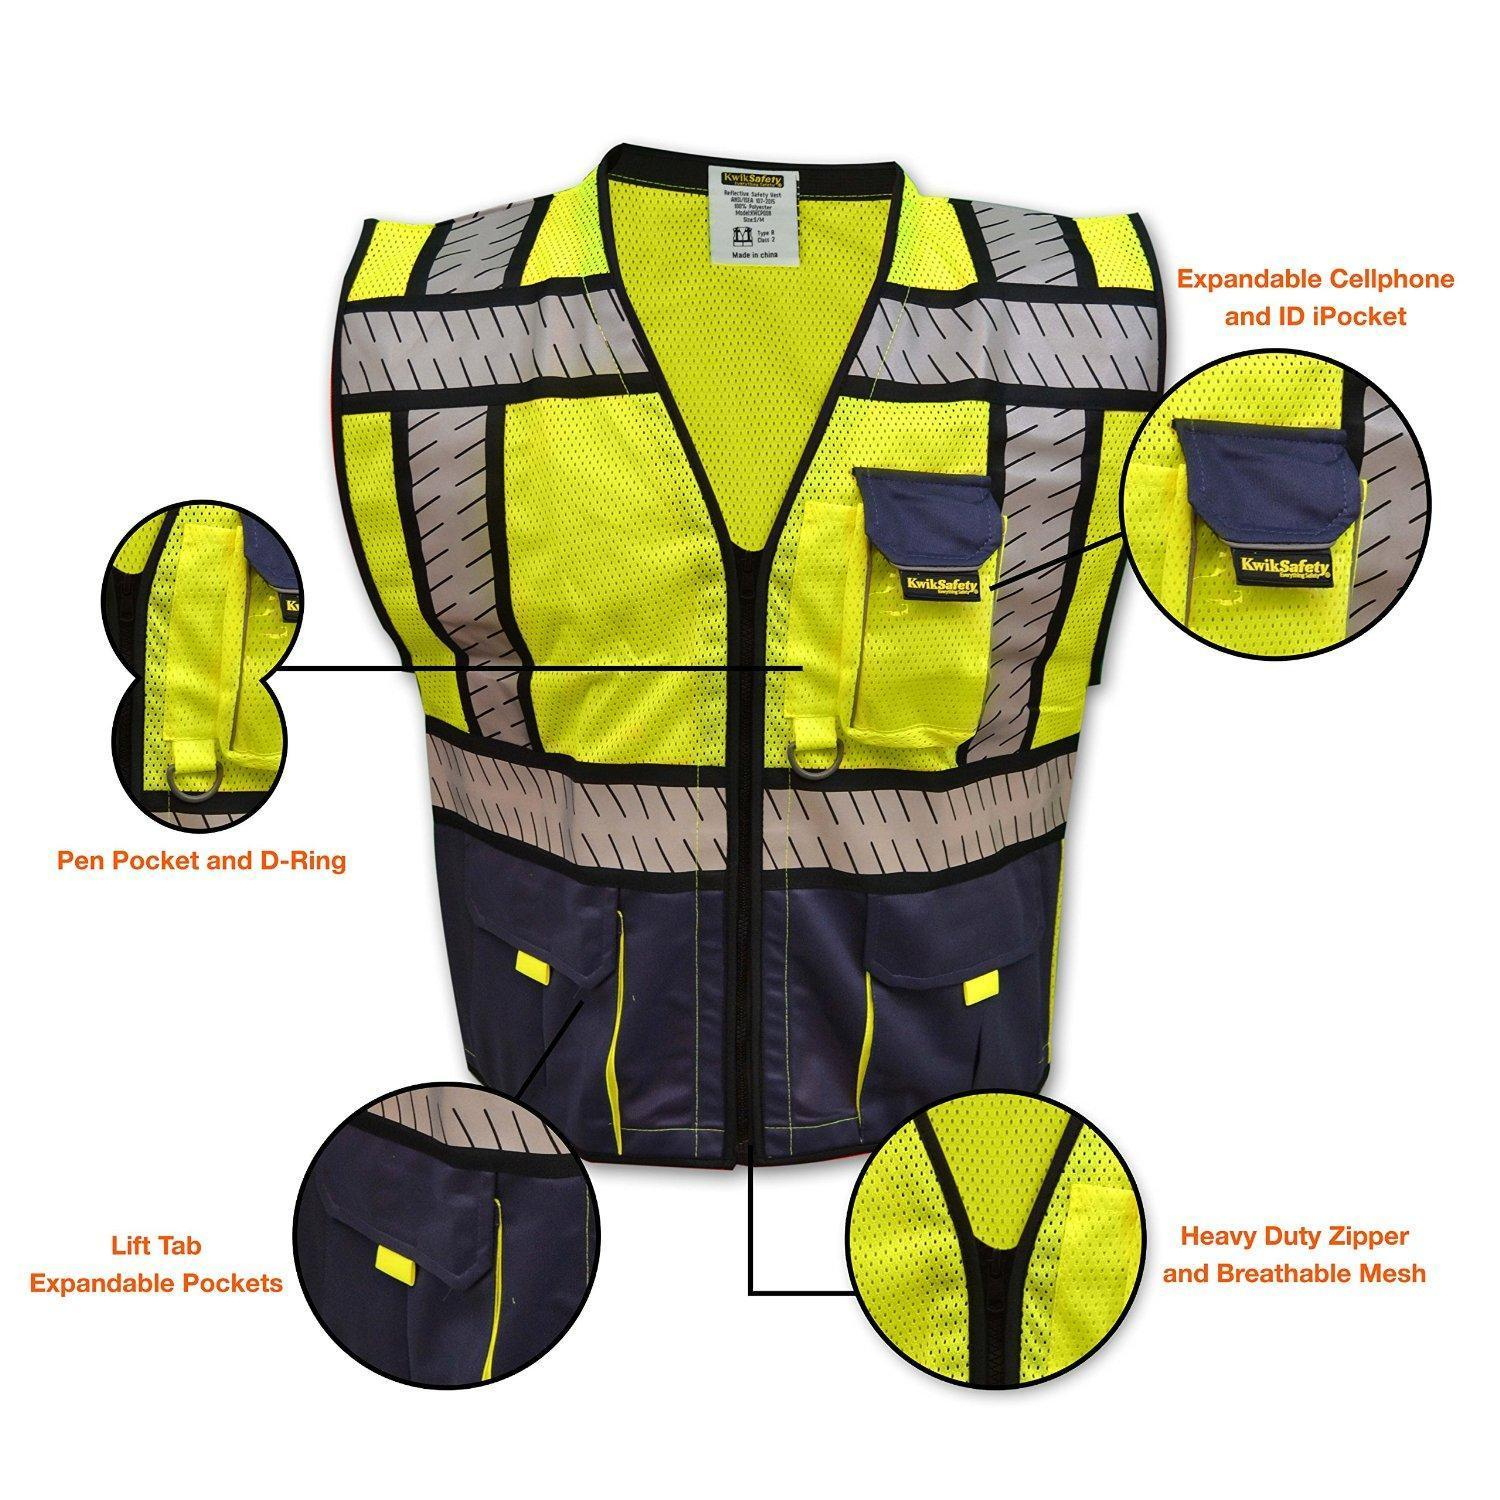vest: (326, 126, 1172, 1180)
